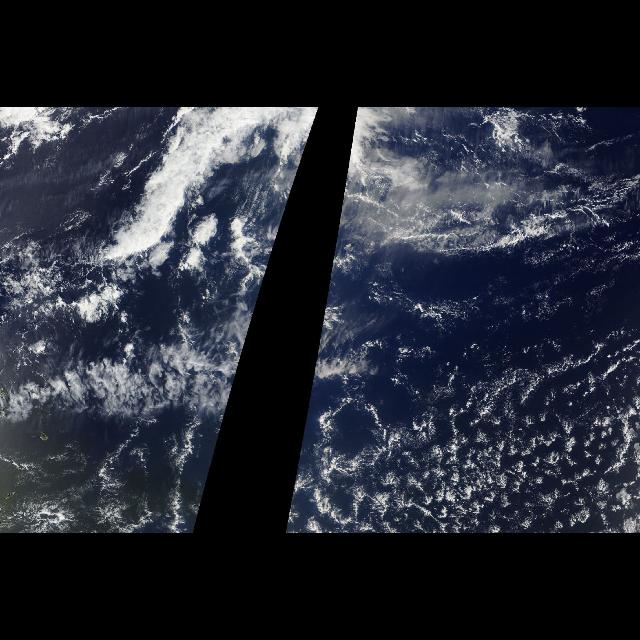Sugar: (313, 383, 637, 529)
